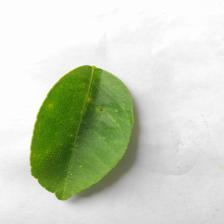greening: (27, 110, 125, 180)
